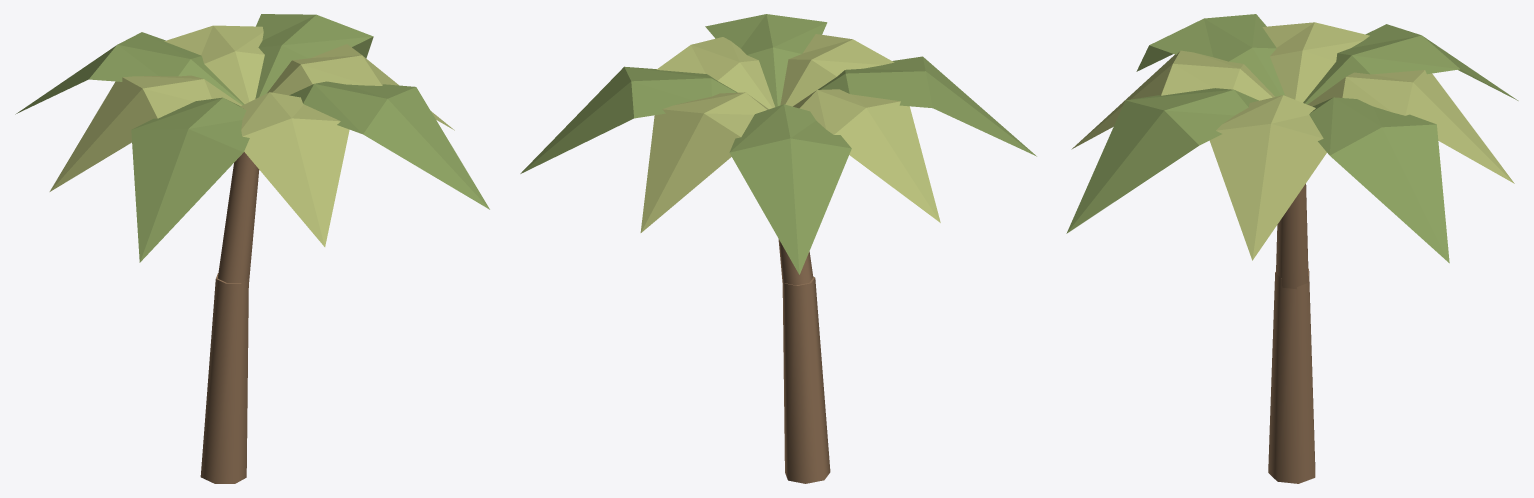
File: tree-desertPalm.glb
The picture shows the model from 3 angles, left to right: view 1: azimuth 30°, elevation 25°; view 2: azimuth 150°, elevation 25°; view 3: azimuth 270°, elevation 25°; orthographic projection. The views are drawn at different scales.
Visible parts, largest first — view 1: frond-5, frond-4, frond-3, root-stem, frond-6, frond-7, frond-9, frond-8, stem-1, frond-2; view 2: frond-7, frond-8, frond-6, root-stem, frond-9, frond-5, frond-3, frond-4, frond-2, stem-1; view 3: frond-9, frond-2, frond-3, root-stem, frond-8, frond-5, frond-7, frond-6, frond-4, stem-1.
Boxes of the visible parts, left/top/right/bottom form: frond-5: left=131, top=97, right=249, bottom=262; frond-4: left=240, top=92, right=349, bottom=246; frond-3: left=289, top=81, right=489, bottom=209; root-stem: left=200, top=273, right=248, bottom=483; frond-6: left=49, top=75, right=241, bottom=191; frond-7: left=15, top=32, right=244, bottom=114; frond-9: left=255, top=14, right=373, bottom=98; frond-8: left=164, top=25, right=264, bottom=104; stem-1: left=217, top=152, right=259, bottom=282; frond-2: left=267, top=44, right=454, bottom=130; frond-7: left=729, top=104, right=851, bottom=274; frond-8: left=640, top=92, right=768, bottom=232; frond-6: left=793, top=89, right=940, bottom=222; root-stem: left=782, top=276, right=830, bottom=483; frond-9: left=520, top=66, right=737, bottom=173; frond-5: left=818, top=56, right=1036, bottom=156; frond-3: left=705, top=14, right=827, bottom=106; frond-4: left=780, top=34, right=894, bottom=106; frond-2: left=656, top=37, right=774, bottom=109; stem-1: left=778, top=239, right=813, bottom=288; frond-9: left=1309, top=97, right=1449, bottom=263; frond-2: left=1209, top=95, right=1326, bottom=260; frond-3: left=1066, top=88, right=1258, bottom=233; root-stem: left=1268, top=268, right=1315, bottom=483; frond-8: left=1307, top=70, right=1514, bottom=183; frond-5: left=1136, top=14, right=1285, bottom=96; frond-7: left=1303, top=24, right=1518, bottom=104; frond-6: left=1262, top=22, right=1369, bottom=102; frond-4: left=1071, top=50, right=1274, bottom=149; stem-1: left=1276, top=184, right=1308, bottom=289.
Size of the model in its own units: 5.85 by 5.92 by 5.85.
